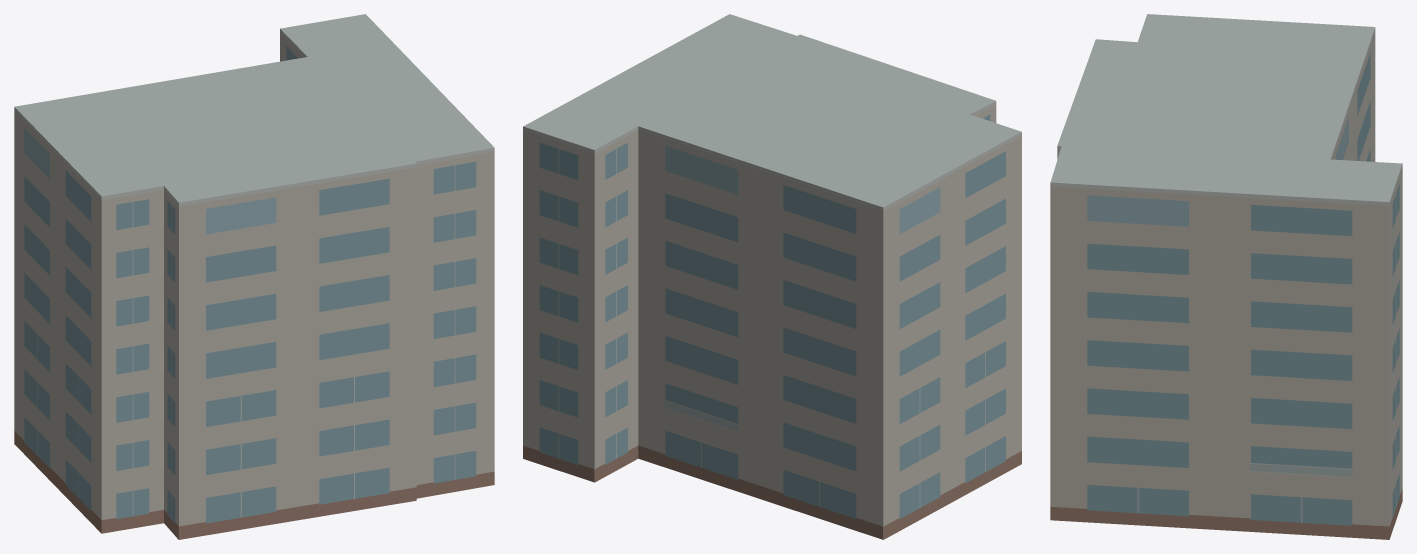
Rendered from survey-upis-32887208.glb.
The picture shows the model from 3 angles, left to right: view 1: azimuth 30°, elevation 25°; view 2: azimuth 150°, elevation 25°; view 3: azimuth 270°, elevation 25°; orthographic projection.
Parts seen in each view (by area): view 1: survey-upis-32887208.tmp; view 2: survey-upis-32887208.tmp; view 3: survey-upis-32887208.tmp.
Part boxes in pixels (x1,y1,x2,y2): survey-upis-32887208.tmp: [14, 14, 494, 539]; survey-upis-32887208.tmp: [523, 14, 1021, 539]; survey-upis-32887208.tmp: [1050, 14, 1402, 539].
Size of the model in its own units: 26 by 21.75 by 20.56.
